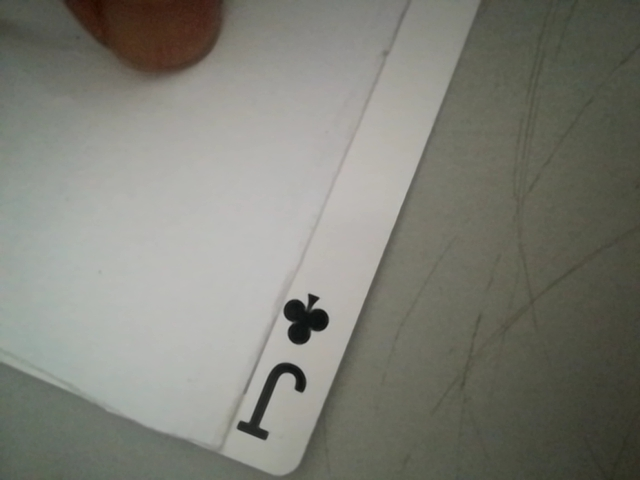mh j: (233, 282, 343, 456)
